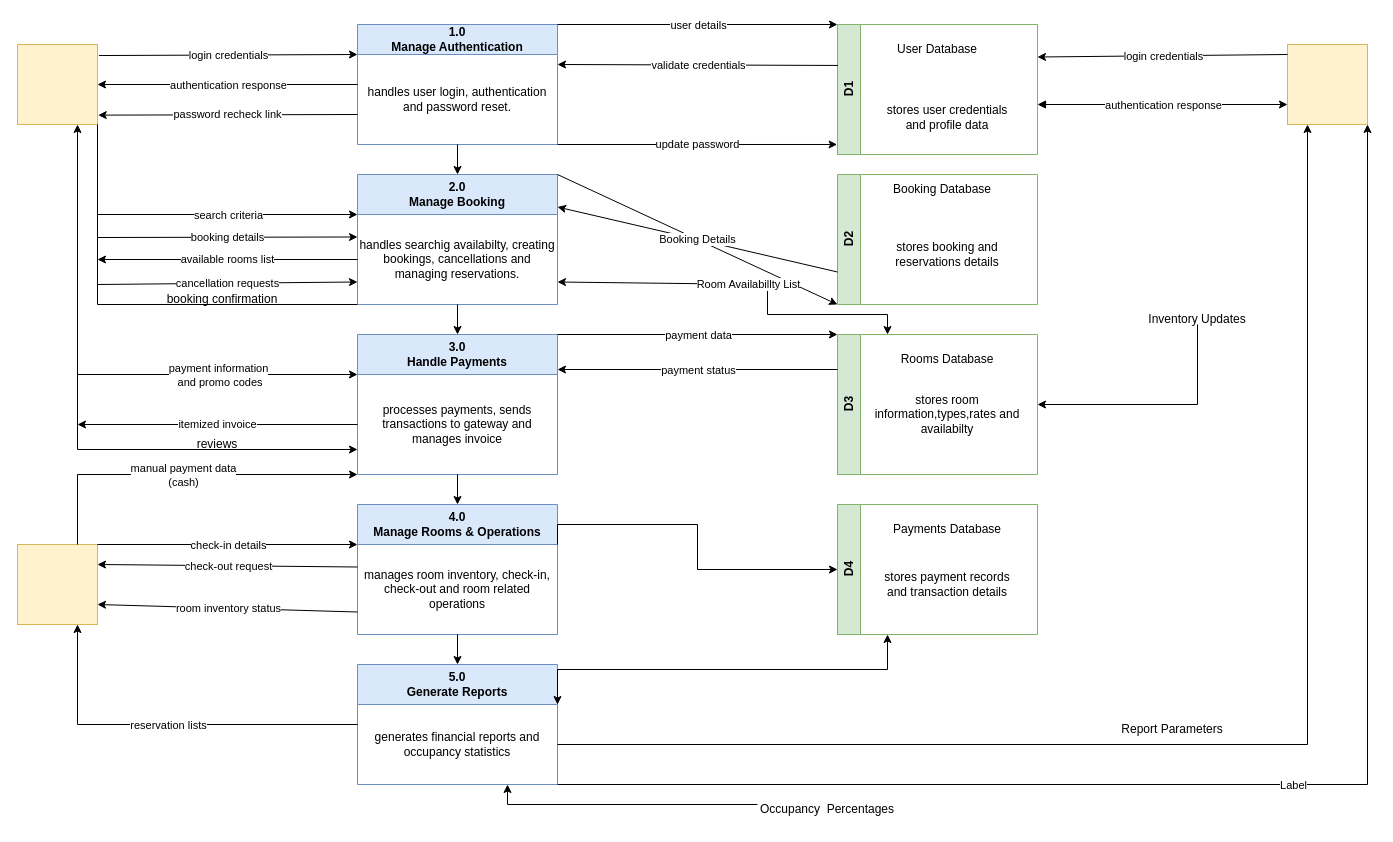
Some shapes in this 1393 by 842 pixel diagram are drawn without their labels. The shapes that lost their labels are listed below. From the top down, each one's centre as x and y in pixels, then its label:
At (x=57, y=84): "Guest".
At (x=1327, y=84): "Admin".
At (x=57, y=584): "Receptionist".
